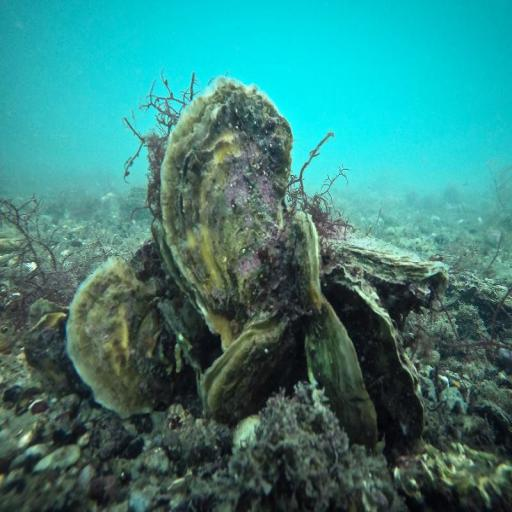Oyster-Closed: (72, 266, 192, 407)
Oyster-Open: (151, 81, 301, 347), (306, 267, 425, 453), (206, 312, 302, 426), (326, 231, 450, 286), (287, 209, 328, 317)
